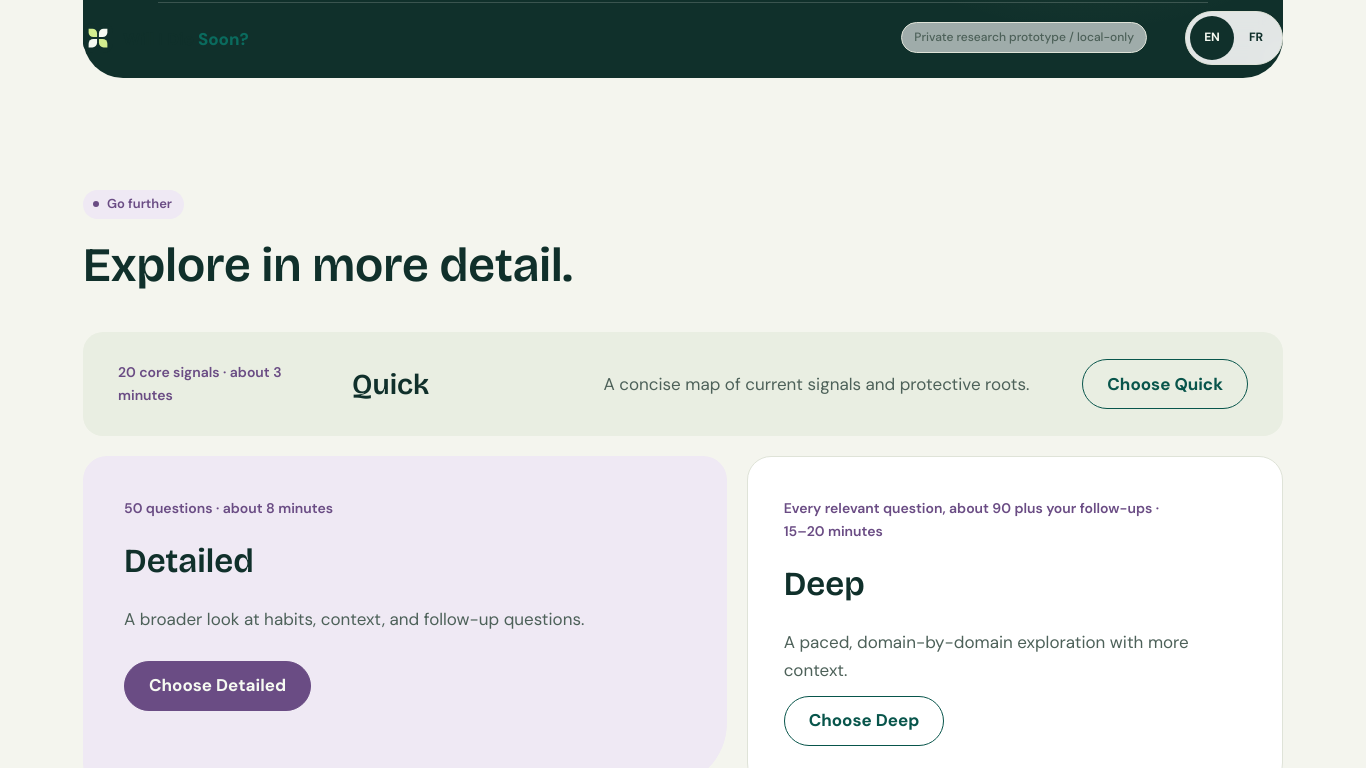
Test case: localizes the active consent screen while preserving every entered profile field
(page scrolled)
Click the button "Choose Quick" at (1165, 384), box [1082,359,1248,409]
(page scrolled)
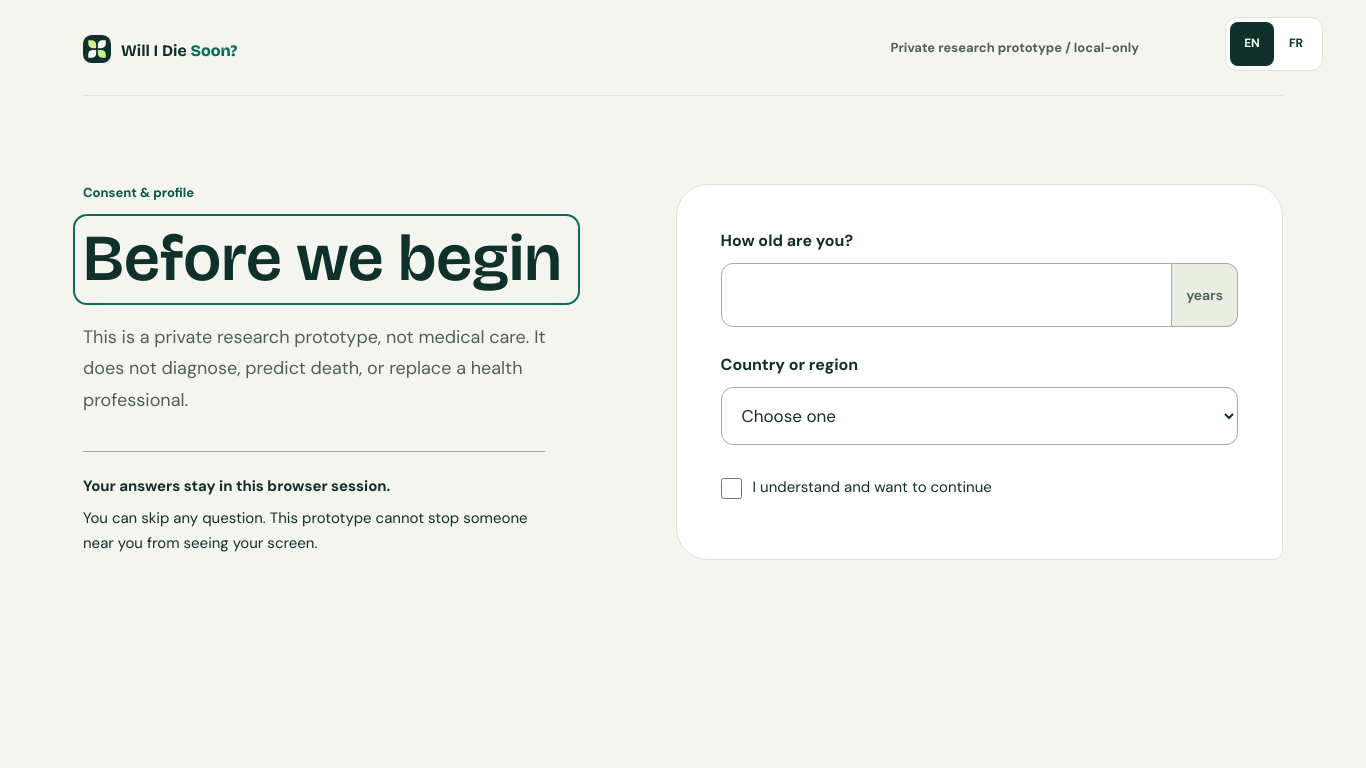
Type "42" into the number field labelled "How old are you?" at (946, 295), box [721,263,1172,327]
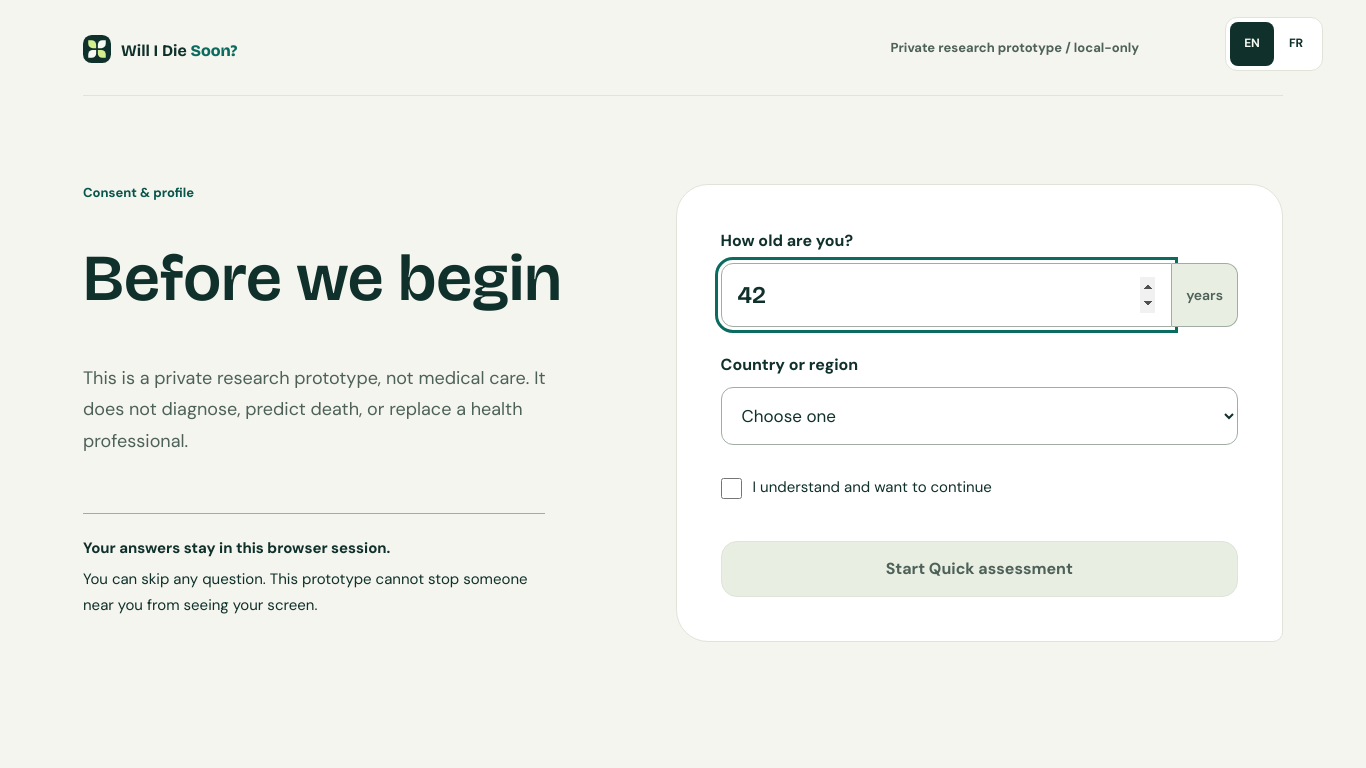
Select "Switzerland" in the dropdown labelled "Country or region" at (979, 416), box [721,387,1238,445]
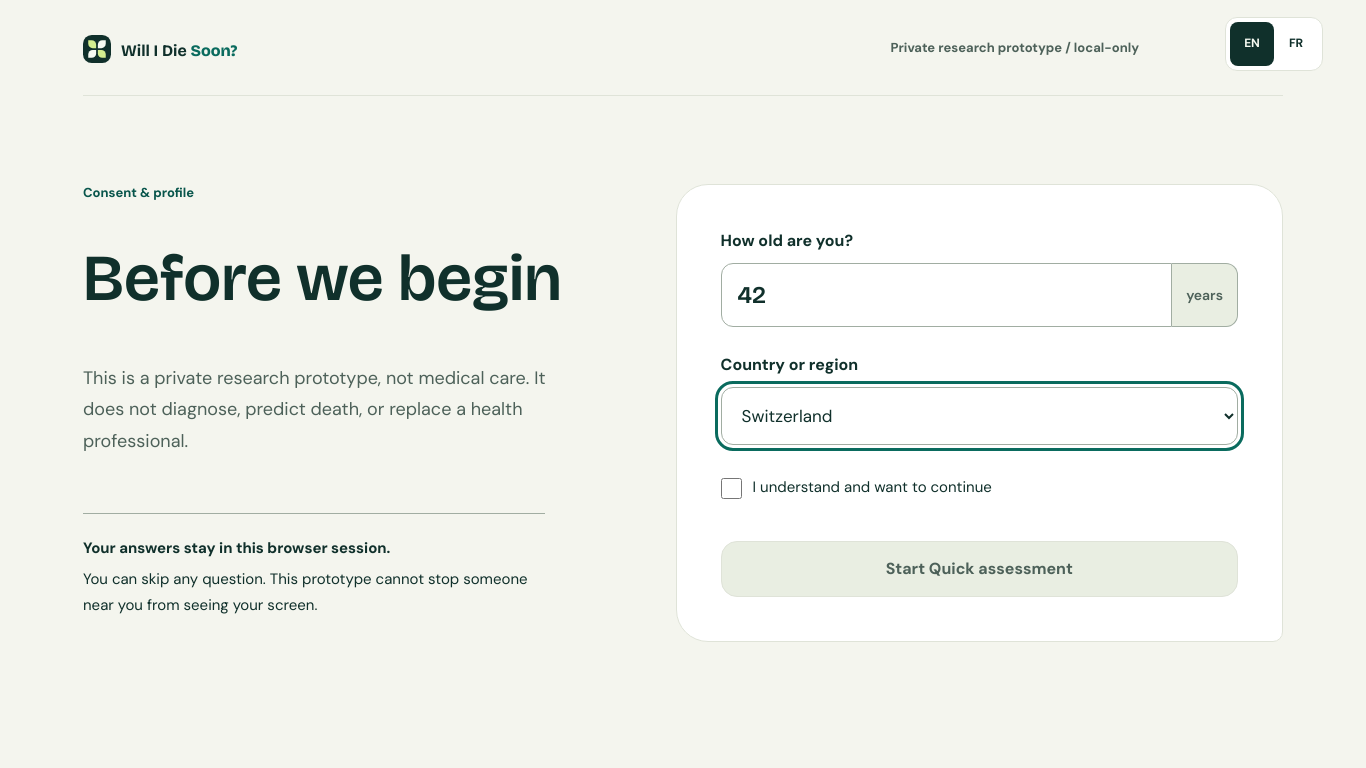
Click the checkbox labelled "I understand and want to continue" at (731, 488), box [721,478,742,499]
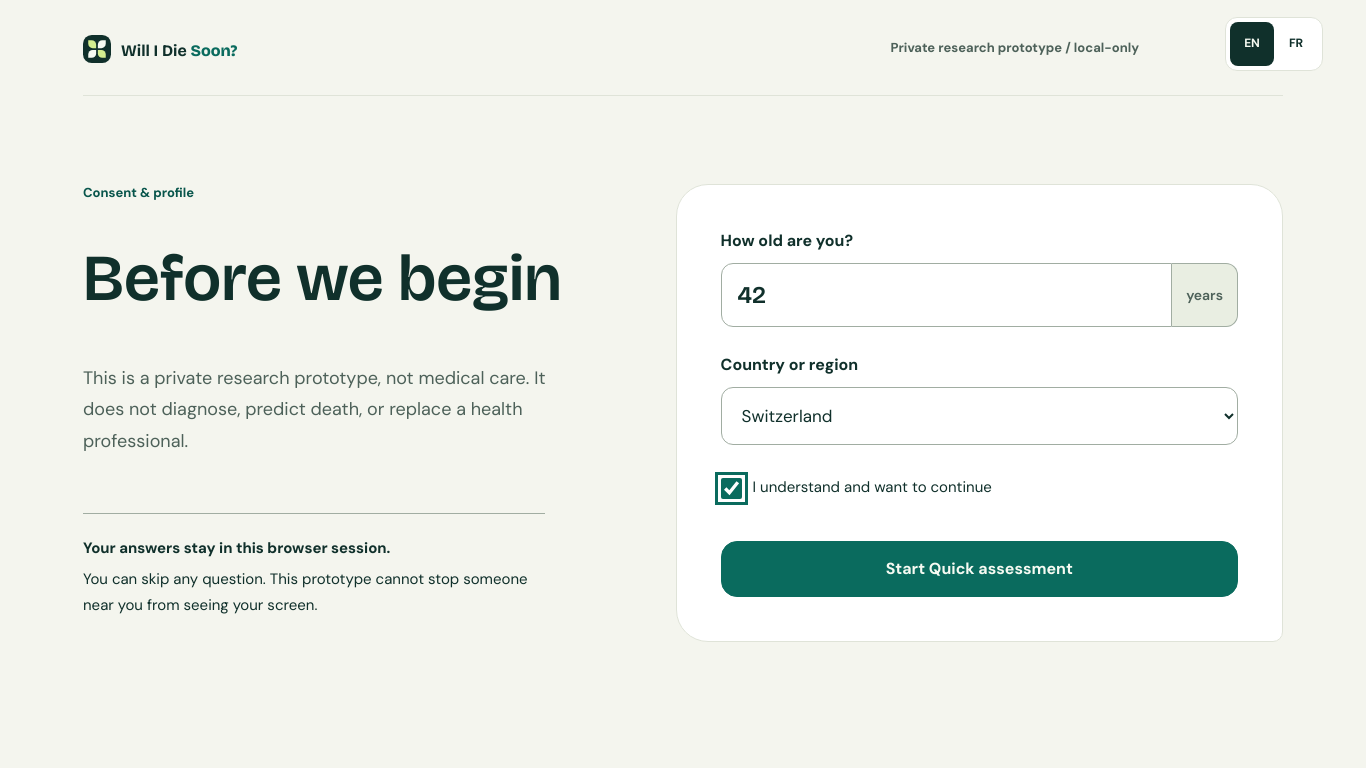
Now the heading "Before we begin" is shown, box [83,244,570,315]
Click the button with aria-label "Français" at (1296, 44), box [1274,22,1318,66]
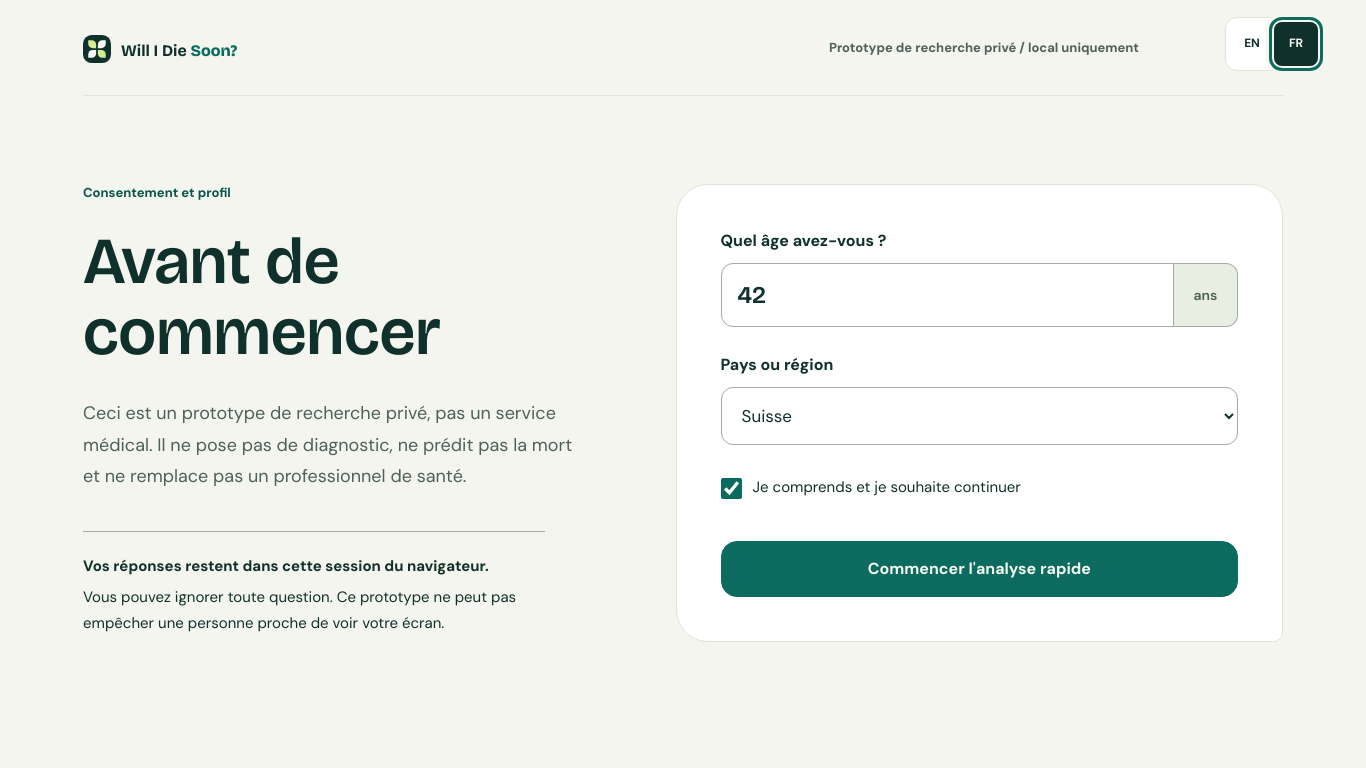
Now the checkbox labelled "Je comprends et je souhaite continuer" is checked, box [721,478,742,499]
Now the heading "Avant de commencer" is shown, box [83,222,441,372]
